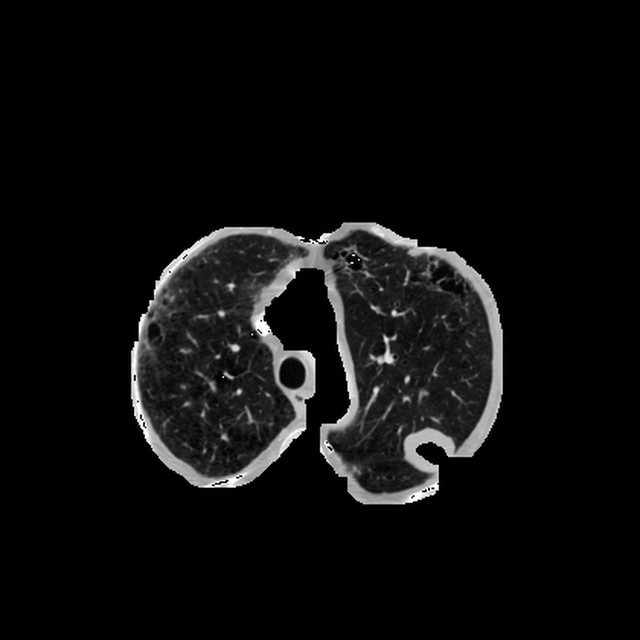PN: (402, 425, 451, 474)
